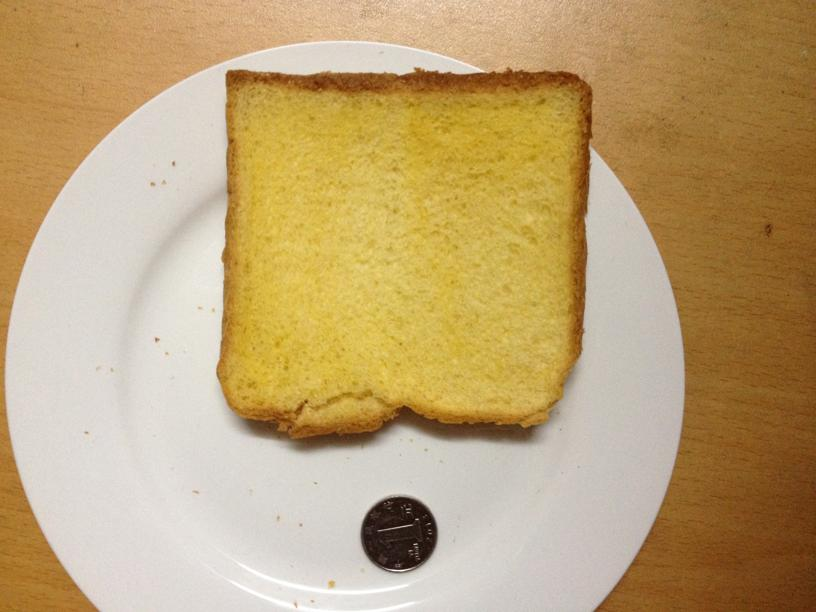bread: (220, 59, 585, 433)
coin: (359, 494, 438, 572)
